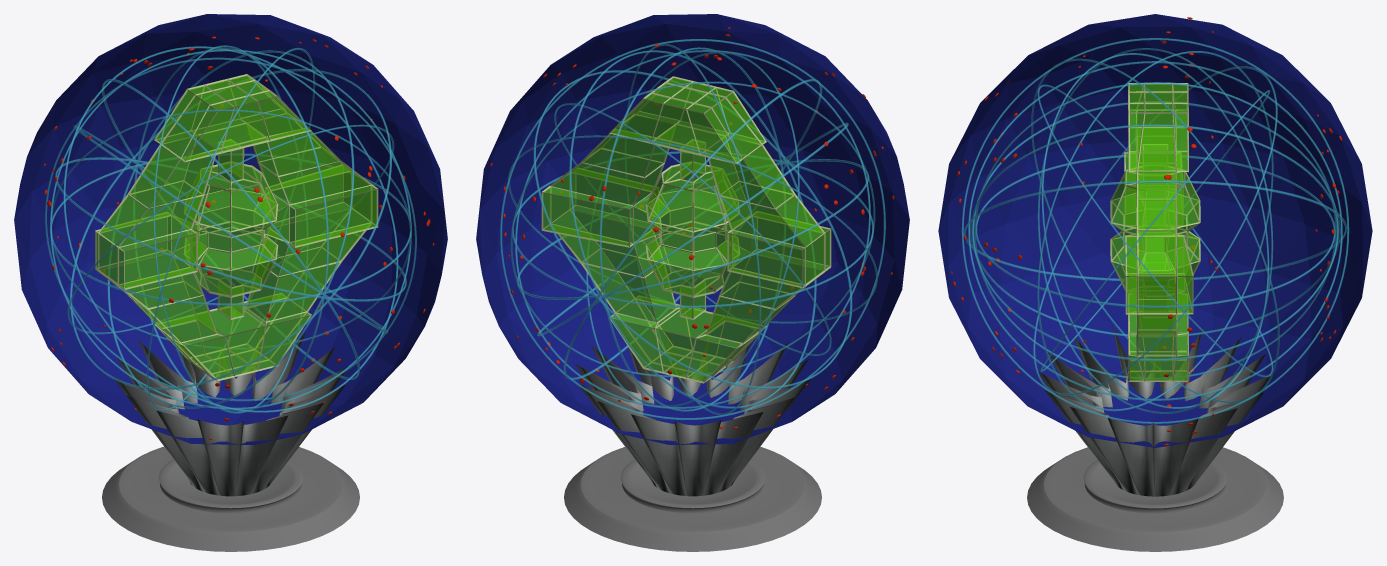
The model's file is 3d-Hologramm-(COLLADA_3 (COLLAborative Design Activity)).dae.
The picture shows the model from 3 angles, left to right: view 1: azimuth 30°, elevation 25°; view 2: azimuth 150°, elevation 25°; view 3: azimuth 270°, elevation 25°; orthographic projection.
Visible parts, largest first — view 1: Icosphere, Cube, _d-Hologramm, Sphere_001, Torus_021, Torus_000, Torus_003, Torus_002, Torus_004, Torus_022, Torus_001; view 2: Icosphere, Cube, _d-Hologramm, Sphere_001, Torus_002, Torus_022, Torus_021, Torus_001, Torus_004, Torus_000, Torus_003; view 3: Icosphere, Cube, _d-Hologramm, Sphere_001, Torus_003, Torus_022, Torus_001, Torus_004, Torus_021, Torus_002, Torus_000.
Part boxes in pixels (bbox=[...]): Icosphere: bbox=[14, 14, 447, 444]; Cube: bbox=[95, 74, 378, 381]; _d-Hologramm: bbox=[102, 446, 359, 551]; Sphere_001: bbox=[113, 327, 348, 496]; Torus_021: bbox=[44, 46, 430, 421]; Torus_000: bbox=[49, 37, 411, 413]; Torus_003: bbox=[44, 45, 425, 439]; Torus_002: bbox=[60, 39, 434, 410]; Torus_004: bbox=[50, 36, 425, 406]; Torus_022: bbox=[47, 48, 429, 414]; Torus_001: bbox=[54, 45, 406, 413]; Icosphere: bbox=[476, 14, 909, 444]; Cube: bbox=[541, 76, 831, 383]; _d-Hologramm: bbox=[564, 447, 821, 551]; Sphere_001: bbox=[575, 325, 810, 496]; Torus_002: bbox=[510, 34, 870, 417]; Torus_022: bbox=[500, 39, 885, 419]; Torus_021: bbox=[490, 70, 883, 389]; Torus_001: bbox=[508, 27, 894, 428]; Torus_004: bbox=[503, 51, 875, 406]; Torus_000: bbox=[504, 44, 892, 428]; Torus_003: bbox=[503, 44, 864, 415]; Icosphere: bbox=[938, 14, 1372, 447]; Cube: bbox=[1110, 83, 1200, 381]; _d-Hologramm: bbox=[1027, 447, 1283, 551]; Sphere_001: bbox=[1037, 326, 1273, 496]; Torus_003: bbox=[957, 31, 1342, 425]; Torus_022: bbox=[951, 17, 1349, 445]; Torus_001: bbox=[961, 48, 1338, 415]; Torus_004: bbox=[964, 52, 1335, 420]; Torus_021: bbox=[953, 66, 1346, 433]; Torus_002: bbox=[958, 31, 1340, 377]; Torus_000: bbox=[963, 65, 1336, 431].
Size of the model in its own units: 28.17 by 28.17 by 33.17.
